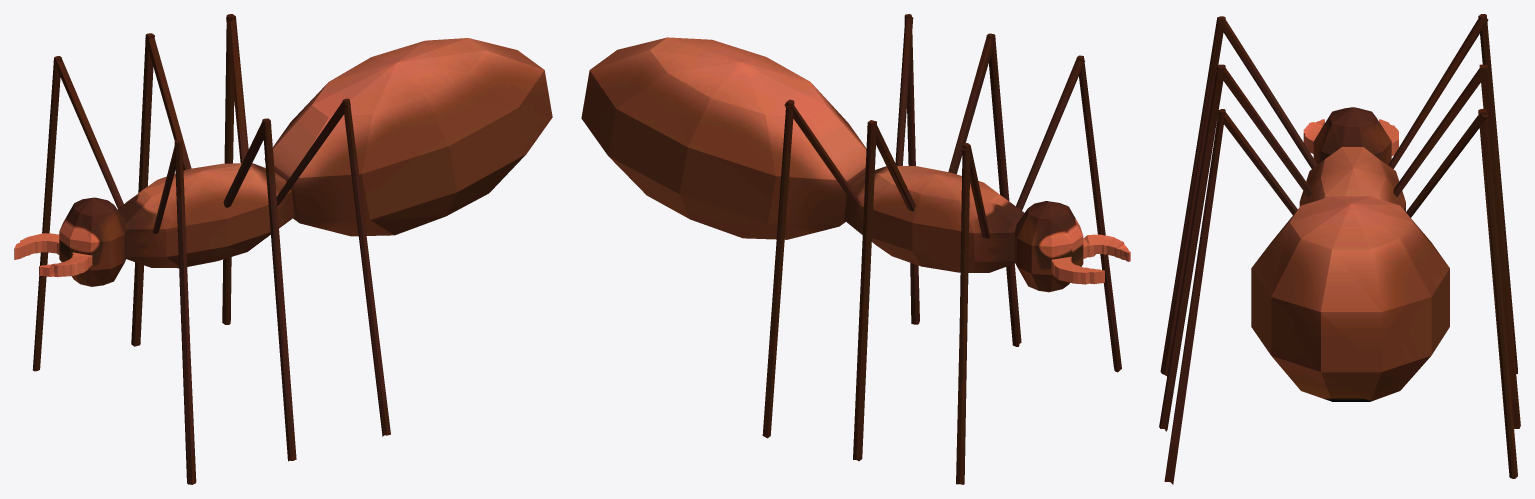
The model's file is Spider.glb.
3 renders of one model, left to right at view 1: azimuth 30°, elevation 25°; view 2: azimuth 150°, elevation 25°; view 3: azimuth 270°, elevation 25°, orthographic. The views are drawn at different scales.
Parts seen in each view (by area): view 1: Spider; view 2: Spider; view 3: Spider.
Part boxes in pixels (x1,y1,x2,y2): Spider: [14, 14, 552, 484]; Spider: [581, 14, 1130, 484]; Spider: [1159, 14, 1520, 484].
Size of the model in its own units: 1103 by 665 by 599.
Materials: 1 (1 with a texture image).
